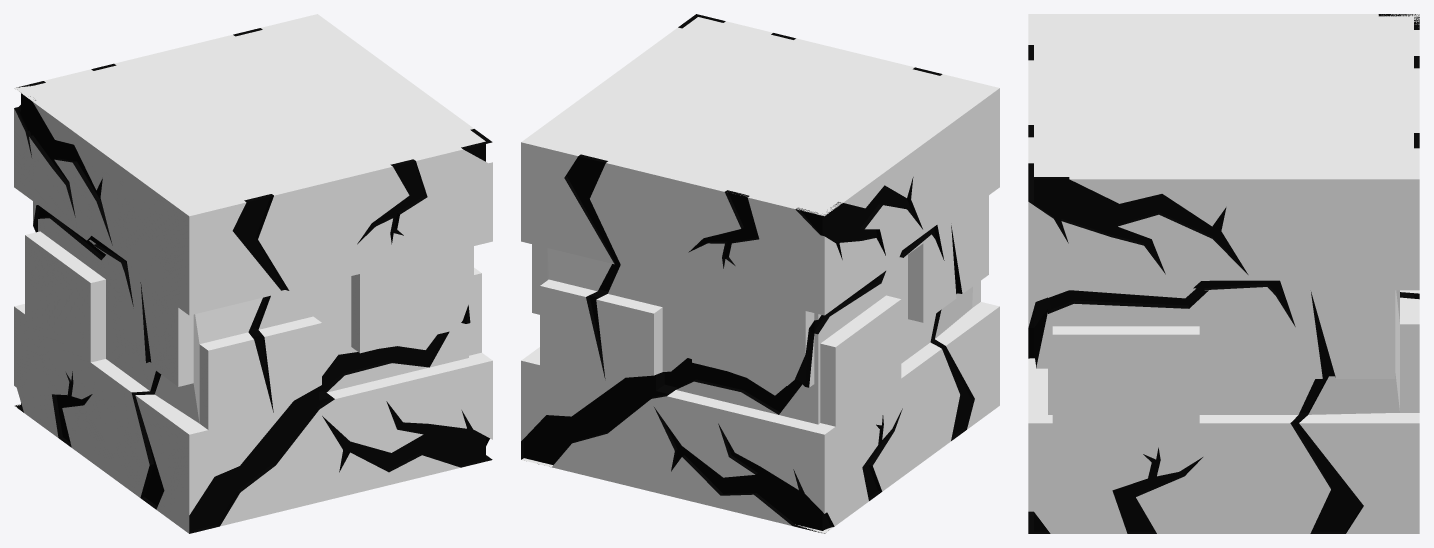
The model's file is CrackedBedrockMagma.fbx.
3 renders of one model, left to right at view 1: azimuth 30°, elevation 25°; view 2: azimuth 150°, elevation 25°; view 3: azimuth 270°, elevation 25°, orthographic. The views are drawn at different scales.
Parts seen in each view (by area): view 1: Bedrock Corner R; view 2: Bedrock Corner R; view 3: Bedrock Corner R.
Boxes of the visible parts, bbox=[...] form: Bedrock Corner R: bbox=[14, 14, 492, 533]; Bedrock Corner R: bbox=[521, 14, 999, 533]; Bedrock Corner R: bbox=[1028, 14, 1419, 533].
Size of the model in its own units: 1 by 1 by 1.
